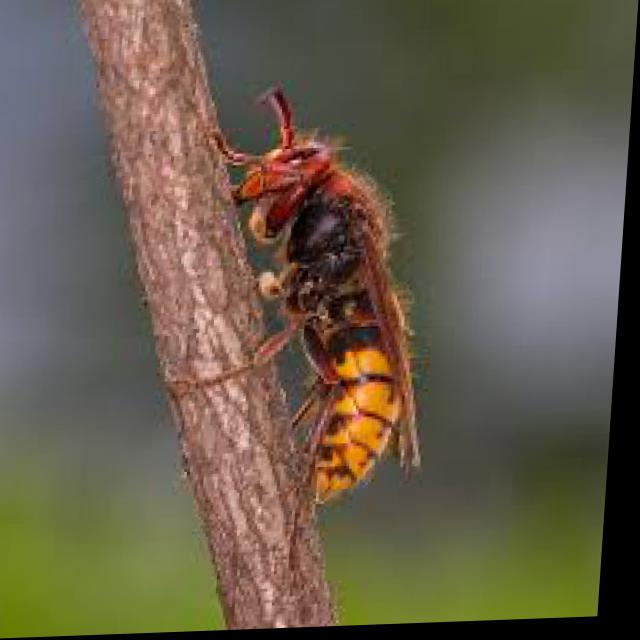Vespa Crabro: (100, 47, 488, 571)
